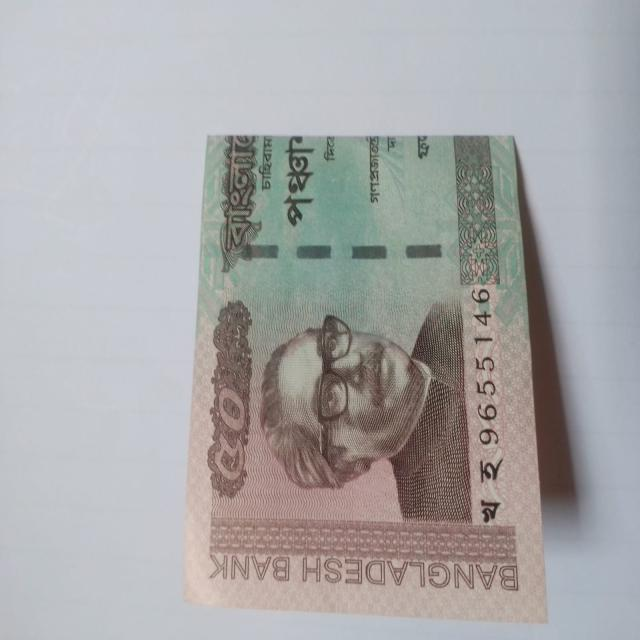Taka: (195, 119, 557, 640)
